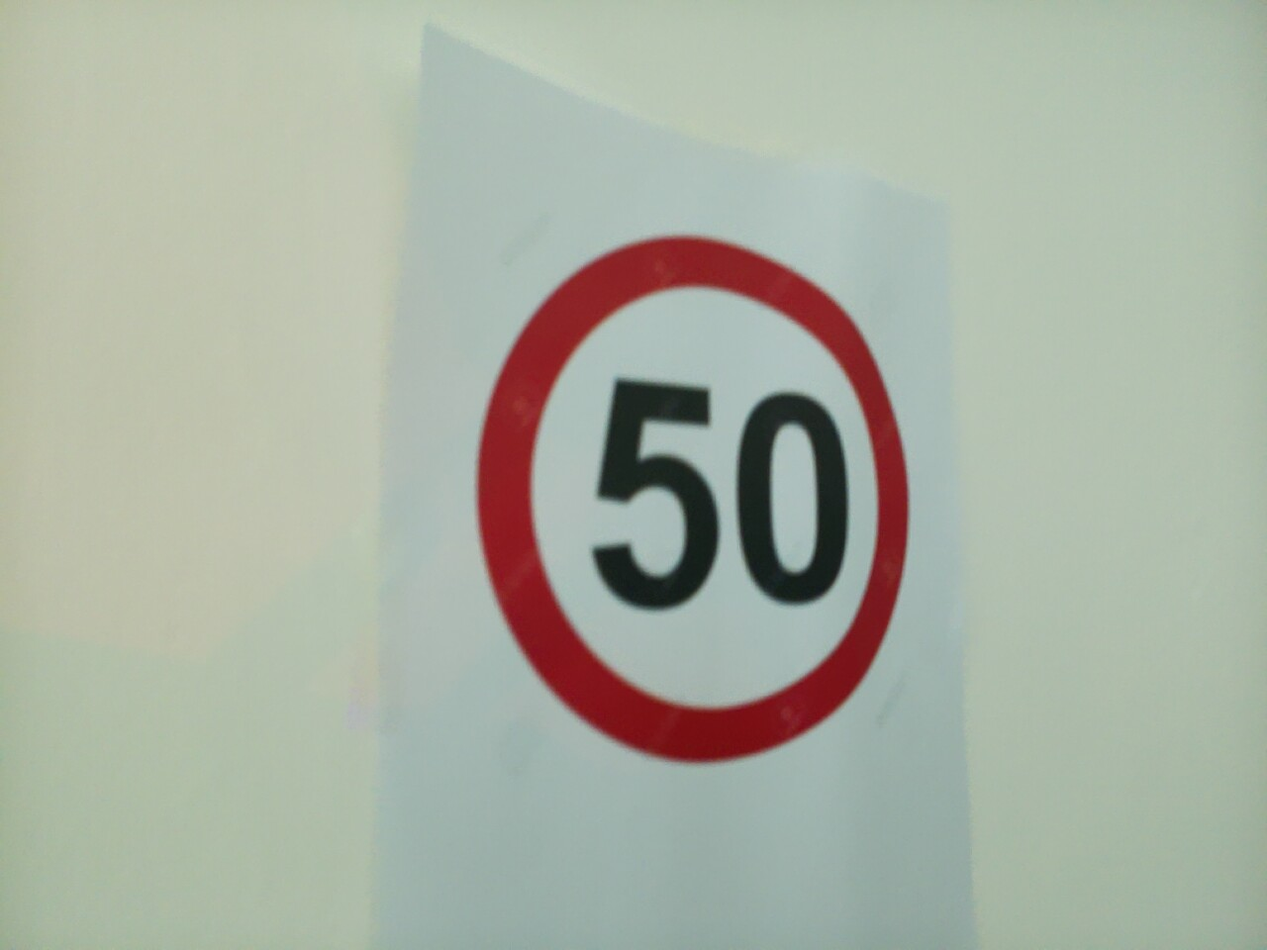speed_50: (731, 384, 854, 614)
